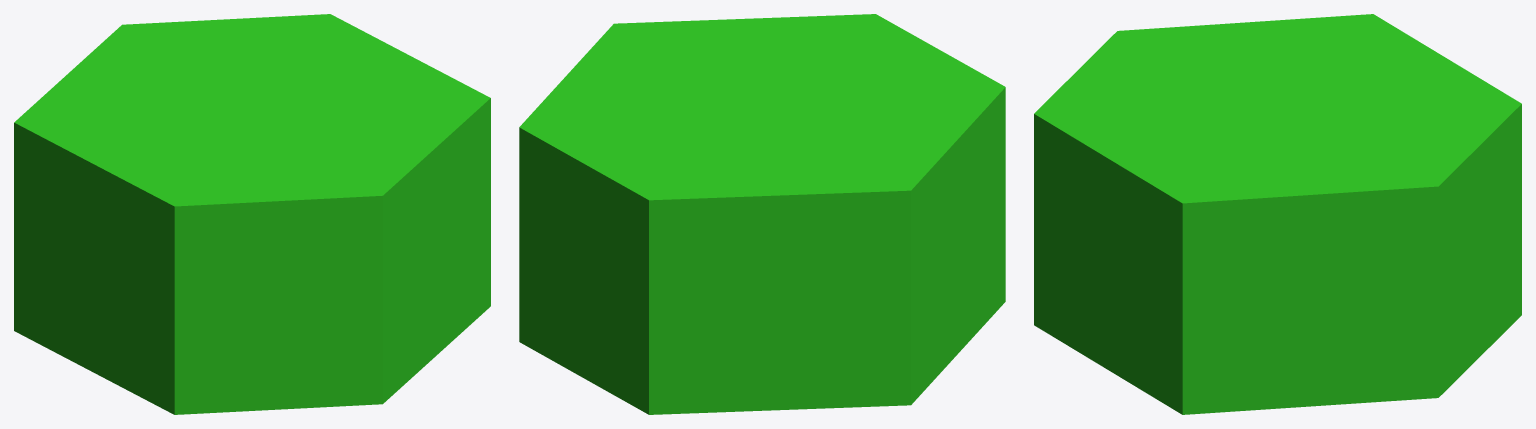
The model's file is NormalContent.fbx.
3 views of the same model, side by side, from view 1: azimuth 30°, elevation 25°; view 2: azimuth 150°, elevation 25°; view 3: azimuth 270°, elevation 25° (orthographic). The views are drawn at different scales.
Parts seen in each view (by area): view 1: Model; view 2: Model; view 3: Model.
Boxes of the visible parts, bbox=[...] form: Model: bbox=[14, 14, 490, 414]; Model: bbox=[519, 14, 1005, 414]; Model: bbox=[1034, 14, 1521, 414].
Size of what is drawn, in the model's own units: 0.5916 by 0.308 by 0.6439.
